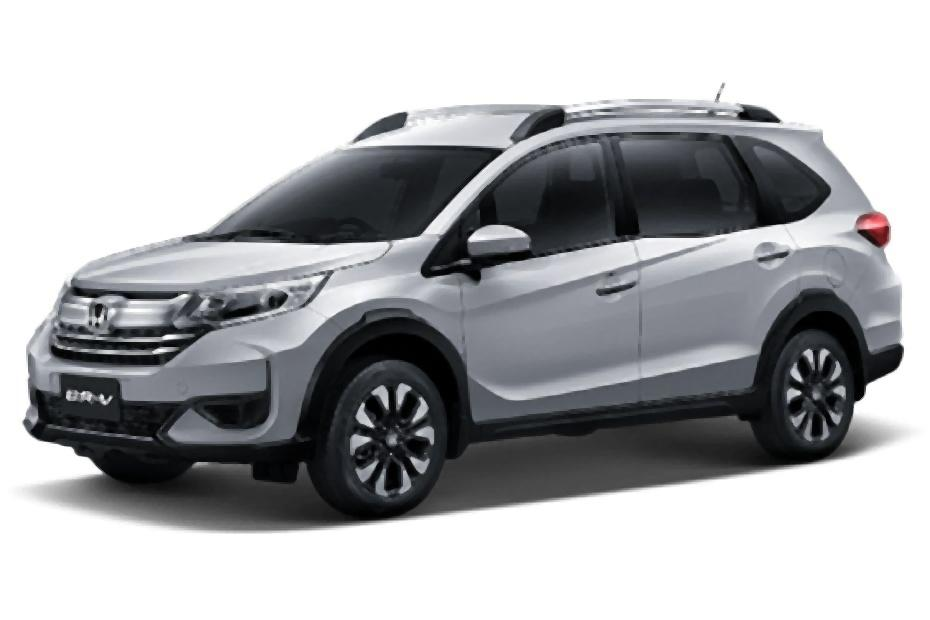Car hood: (60, 232, 392, 294)
Fender - -F-L-: (305, 236, 480, 460)
Fender - -R-L-: (754, 223, 920, 415)
Front bumper: (20, 316, 346, 470)
Headlight - -L-: (159, 261, 341, 330)
Headlight - -R-: (32, 282, 81, 325)
Passenger-s door - -F-L-: (476, 118, 643, 419)
Passenger-s door - -R-L-: (641, 118, 806, 400)
Rear bumper: (854, 285, 910, 390)
Rear light - -L-: (834, 202, 905, 252)
Side bumper - -L-: (430, 381, 772, 449)
Side mirror - -L-: (440, 216, 540, 276)
